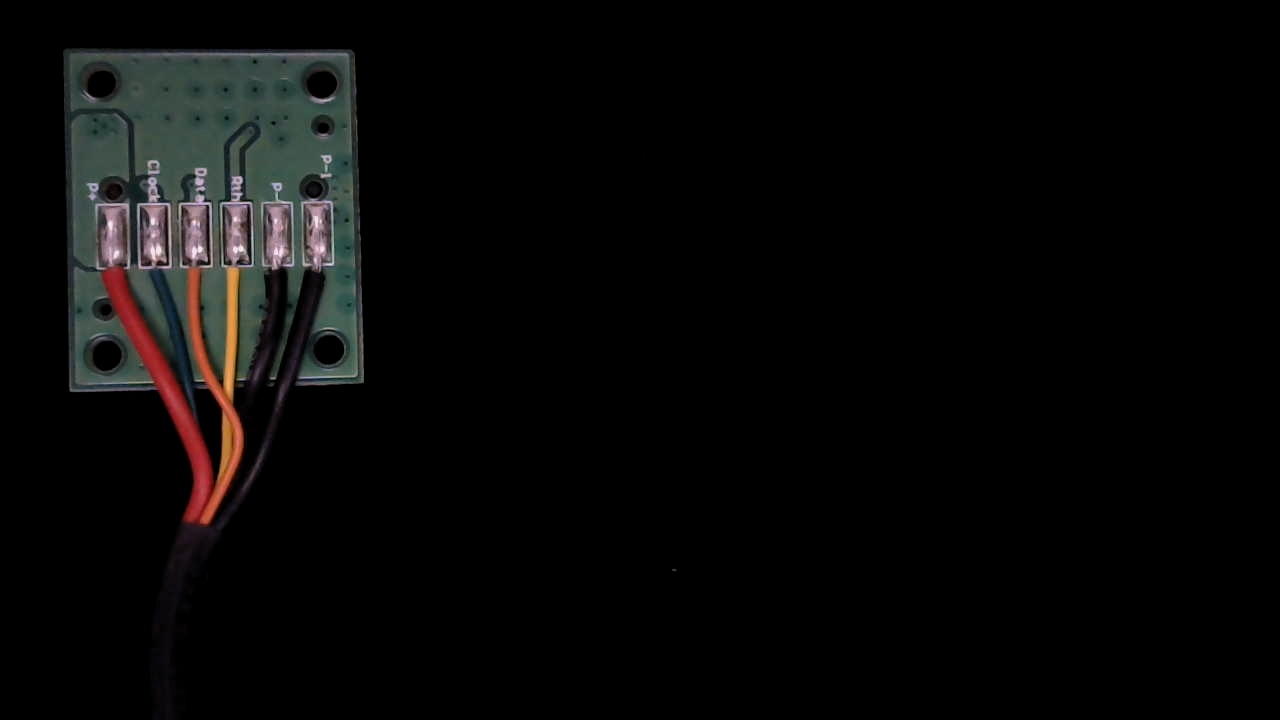Black: (258, 248, 292, 322)
Black1: (302, 247, 336, 315)
Green: (134, 248, 169, 319)
Orange: (178, 249, 212, 322)
Red: (92, 256, 128, 326)
Yellow: (217, 246, 253, 321)
